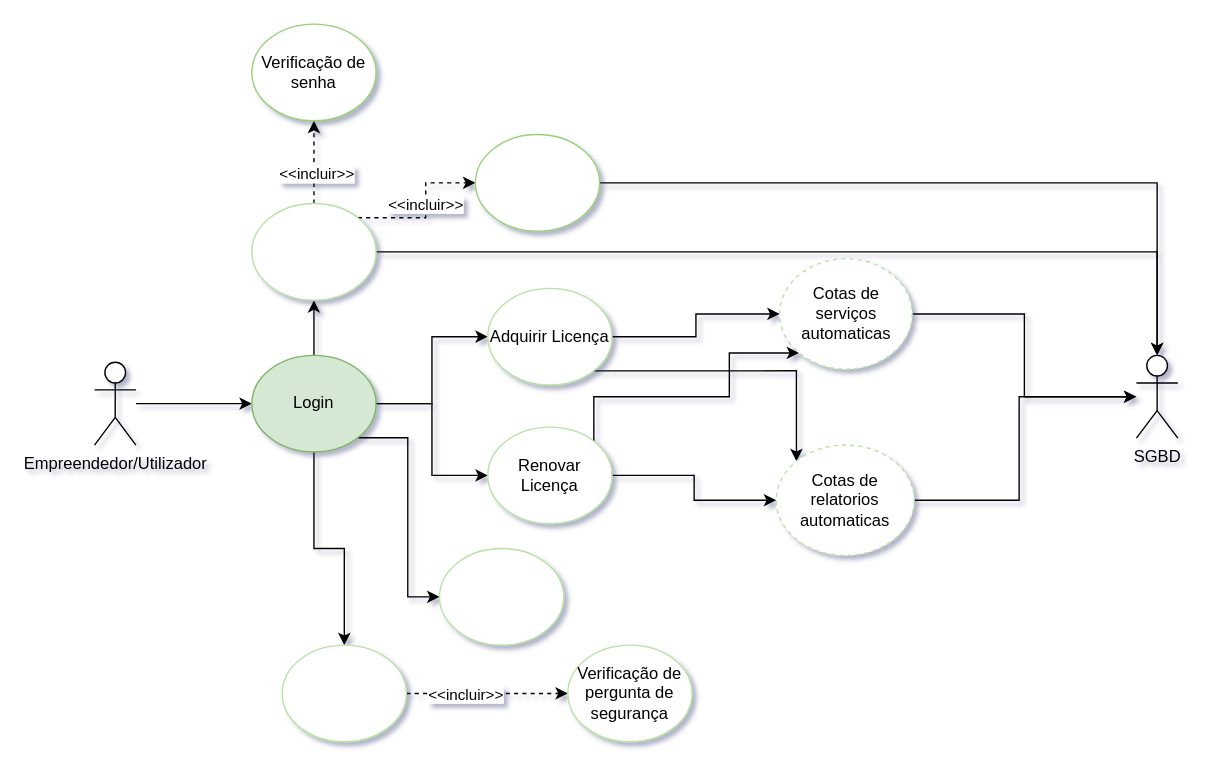
Some shapes in this 1213 by 774 pixel diagram are drawn without their labels. The box of each missing label's shape, as (x1, y1, x2, y2) in pixels:
Cadastro de login: (250, 202, 376, 300)
Criação de pergunta de segurança: (474, 133, 600, 231)
Recuperação de senha: (281, 644, 406, 742)
Redefinir senha: (438, 547, 564, 645)
